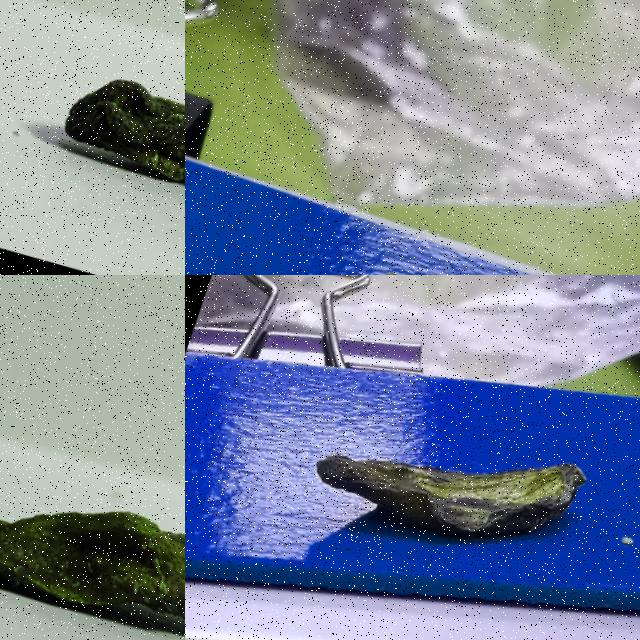Flat_cocoabeans: (273, 379, 639, 626), (187, 139, 639, 274), (0, 0, 184, 274), (0, 418, 184, 639)
